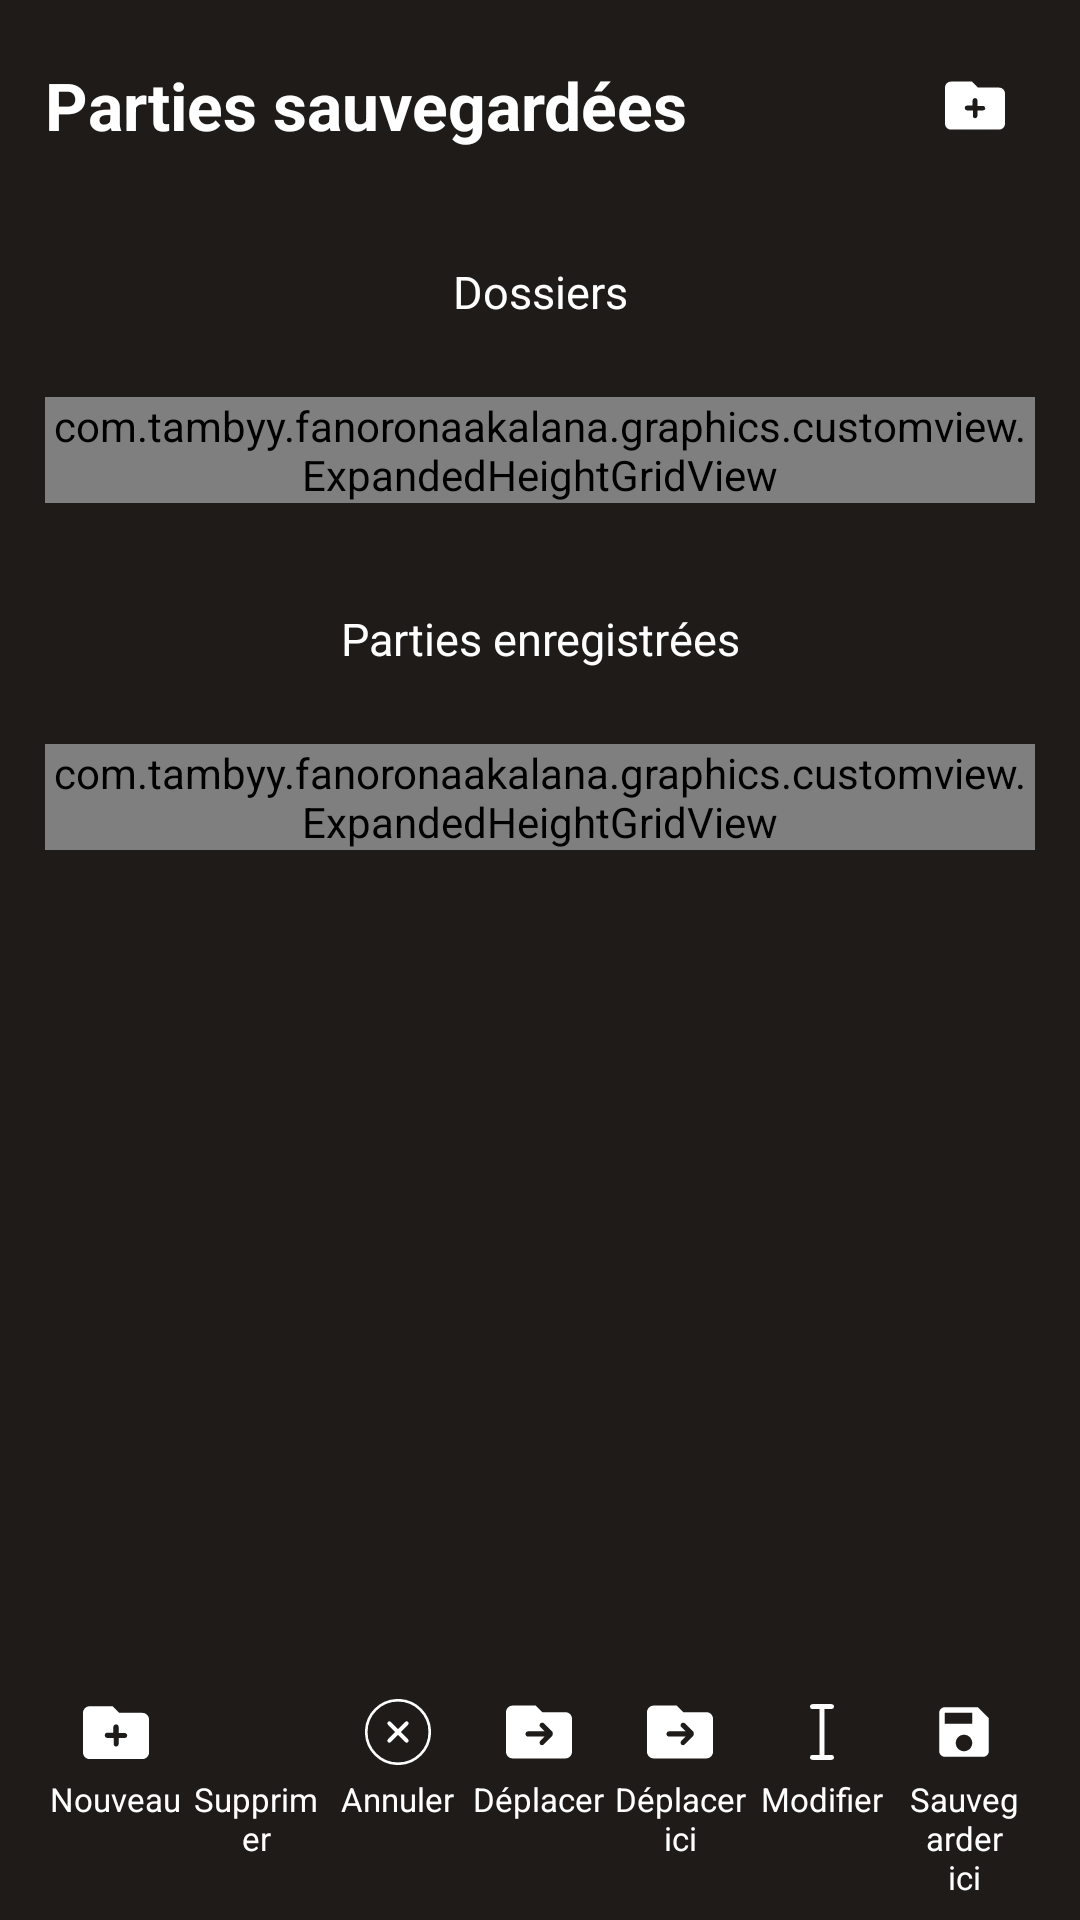

Where icons sit on this 1080 x 1920 app screen, as [left=x1, top=y1, right=x2, bottom=y2]:
saved game rename: [left=810, top=1704, right=834, bottom=1760]
